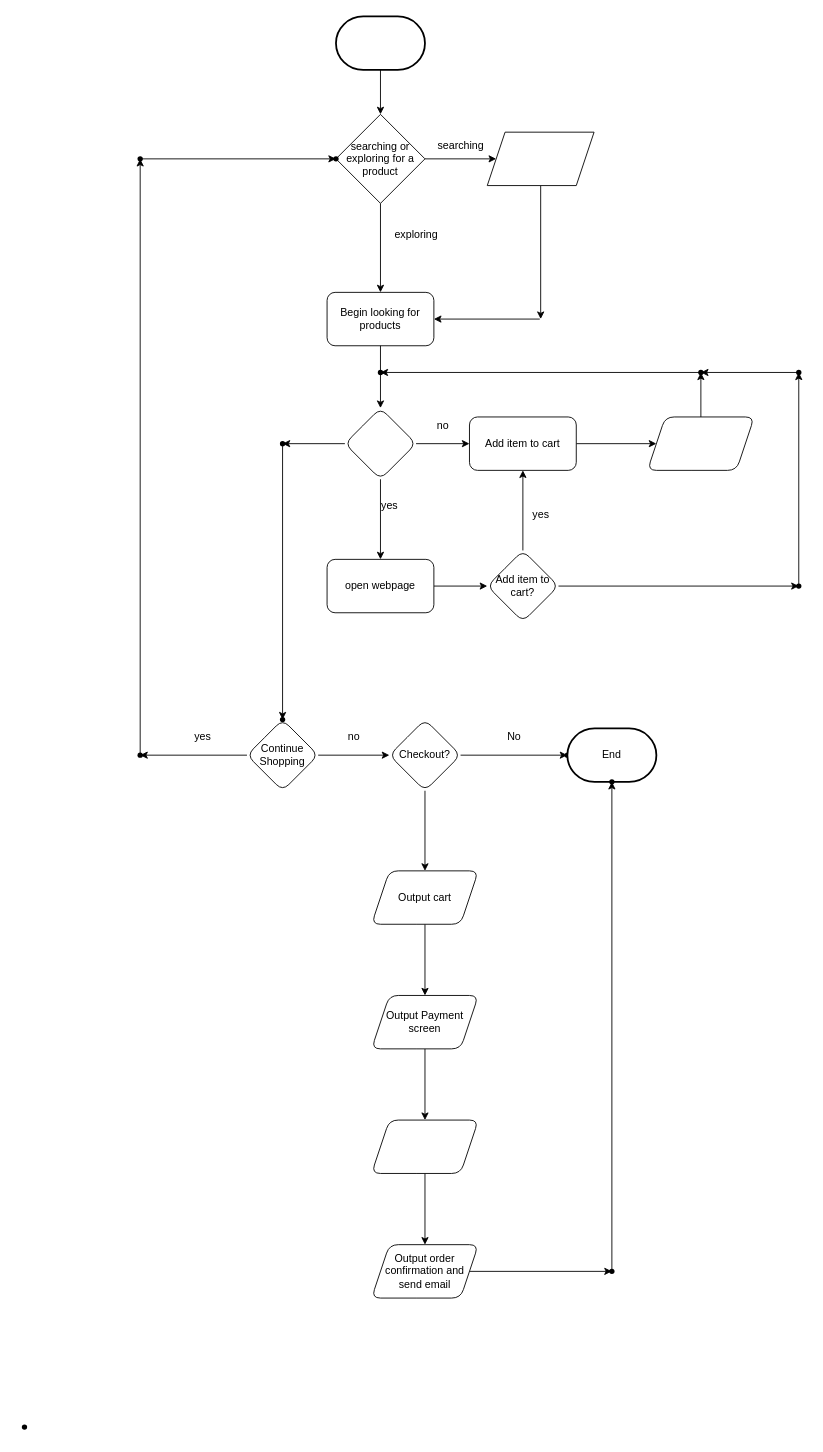
The diagram is 823 pixels wide and 1452 high, and some of its shapes have lost their labels. Here are the shapes that lost their labels. From the top down, the centre of each, then its label:
point (380, 42): Start
point (540, 158): input the product name
point (380, 443): Vewing specific products
point (700, 443): Output "added to cart"
point (424, 1146): Input Payment
